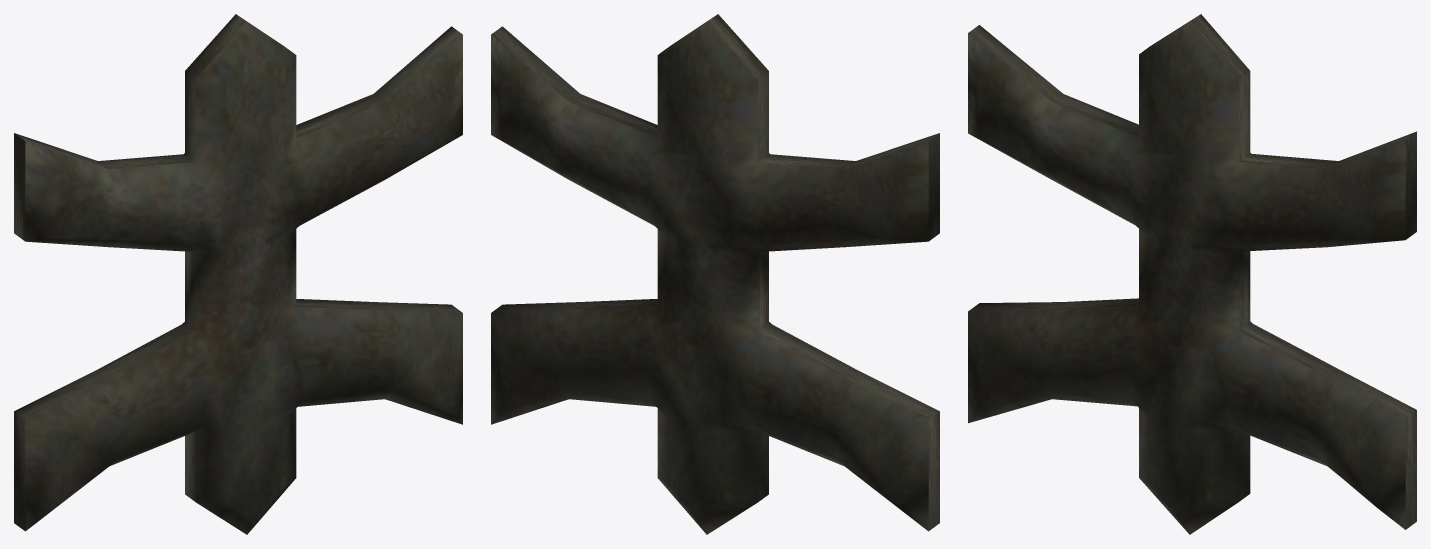
File: THRONE_KEY02.fbx
3 views of the same model, side by side, from view 1: azimuth 30°, elevation 25°; view 2: azimuth 150°, elevation 25°; view 3: azimuth 330°, elevation 25° (orthographic).
Parts seen in each view (by area): view 1: THRONE_KEY02; view 2: THRONE_KEY02; view 3: THRONE_KEY02.
Boxes of the visible parts, x1,y1,x2,y2 form: THRONE_KEY02: (14, 14, 462, 534); THRONE_KEY02: (491, 14, 939, 534); THRONE_KEY02: (968, 14, 1416, 534).
Bounding box in the file's own units: 6555 × 7342 × 734.
Materials: 1 (1 with a texture image).
